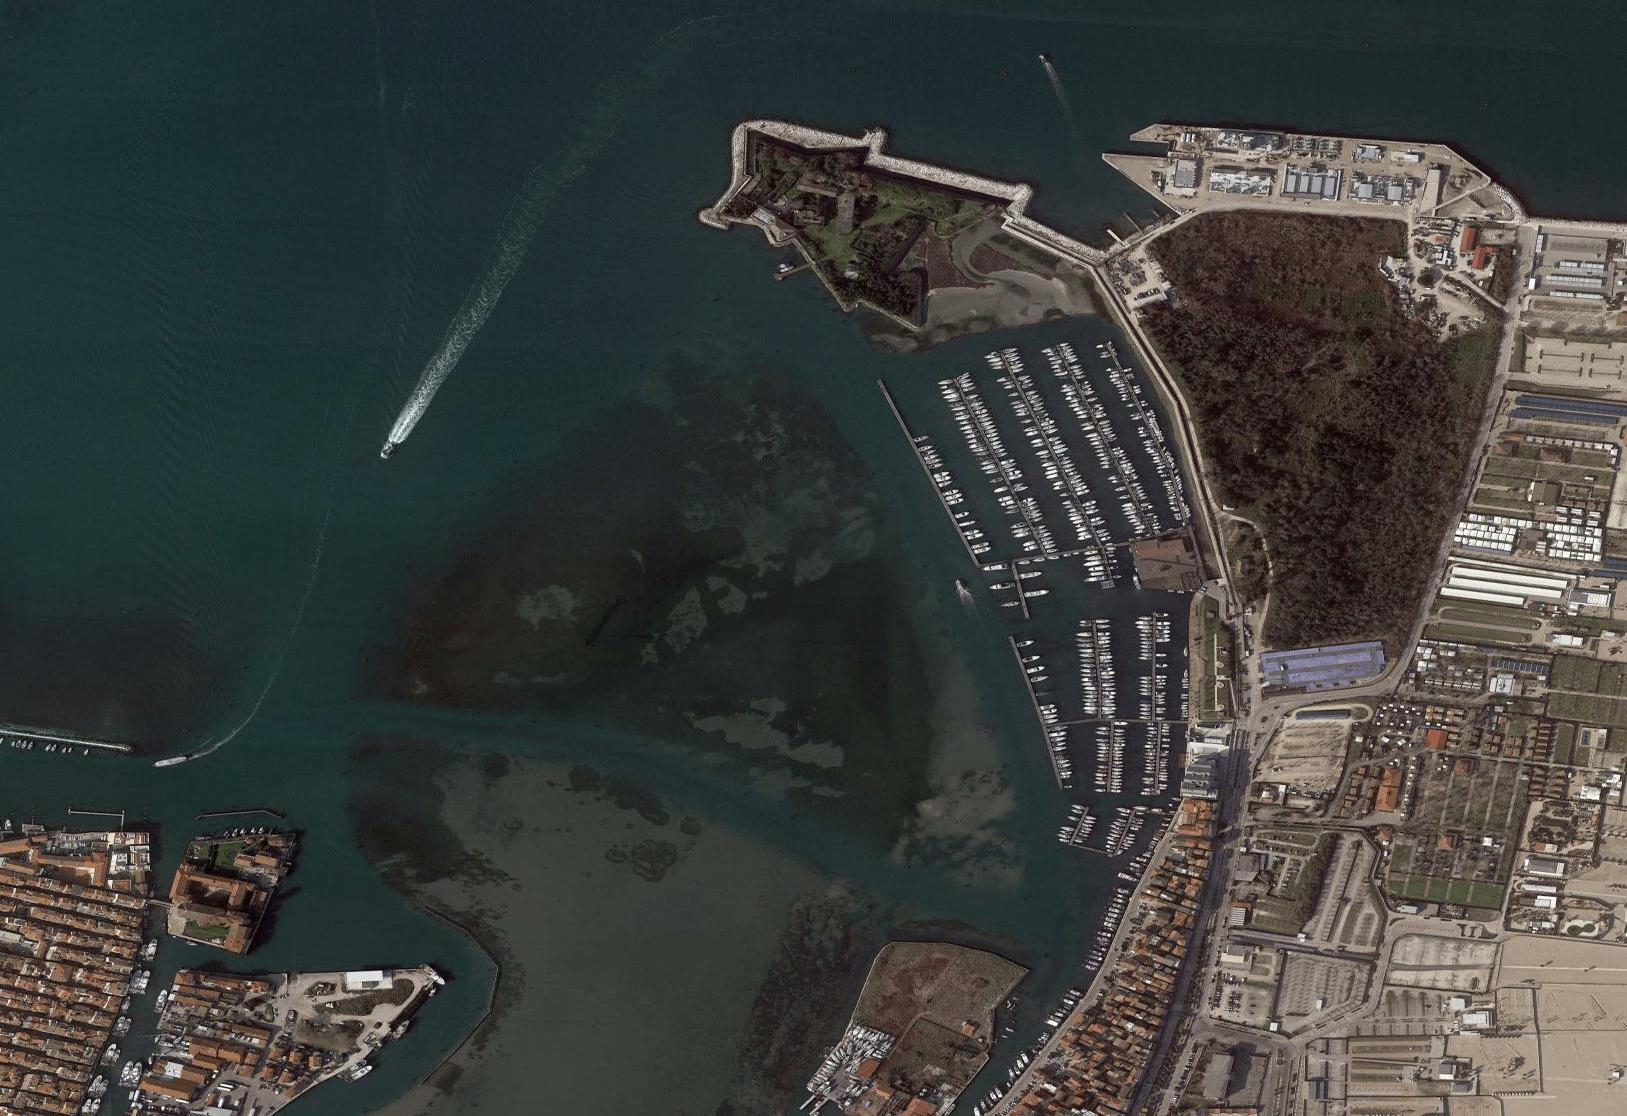harbor: (700, 82, 1226, 868)
